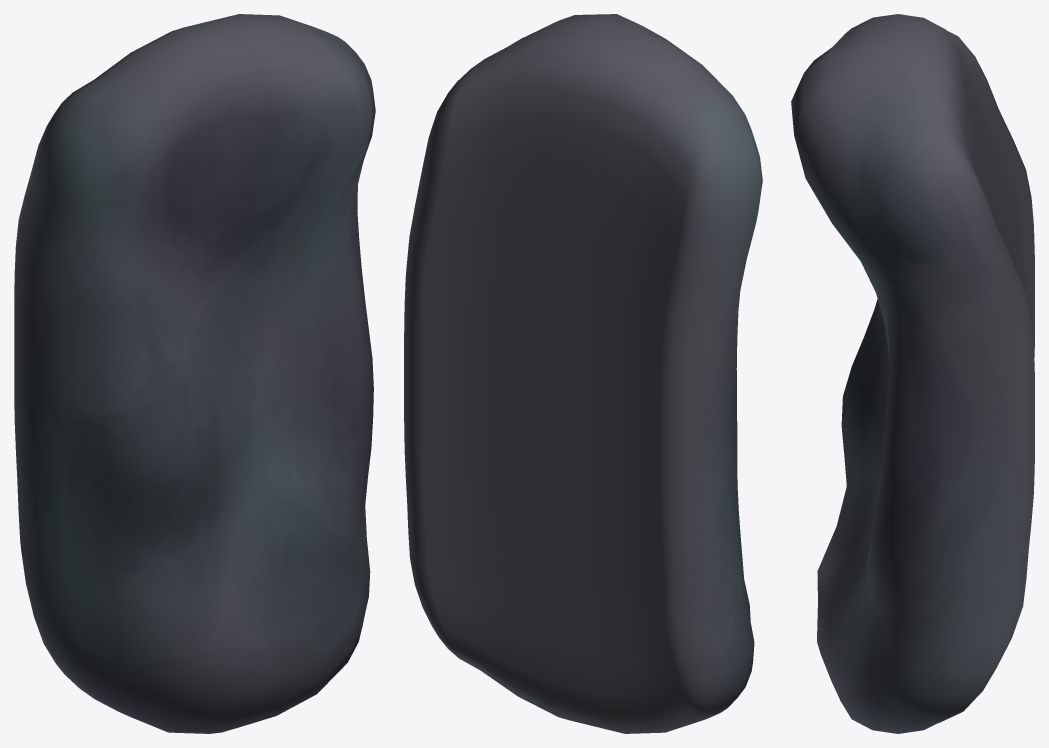
Rendered from CaveWall3.fbx.
3 renders of one model, left to right at view 1: azimuth 30°, elevation 25°; view 2: azimuth 150°, elevation 25°; view 3: azimuth 270°, elevation 25°, orthographic. The views are drawn at different scales.
Parts seen in each view (by area): view 1: CaveWall3; view 2: CaveWall3; view 3: CaveWall3.
Part boxes in pixels (x1,y1,x2,y2): CaveWall3: (14,14,375,733); CaveWall3: (404,14,762,733); CaveWall3: (791,14,1034,733).
Size of the model in its own units: 145 by 299 by 97.46.
Materials: 1 (1 with a texture image).
